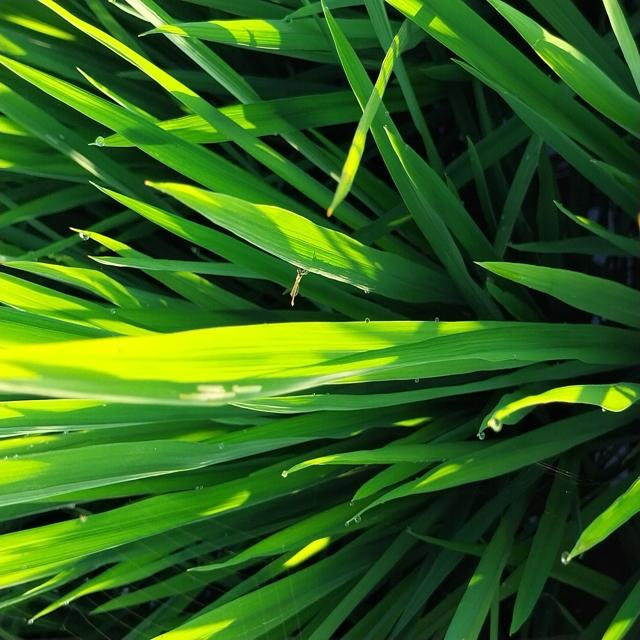Bacterial leaf blight: (170, 376, 304, 431)
